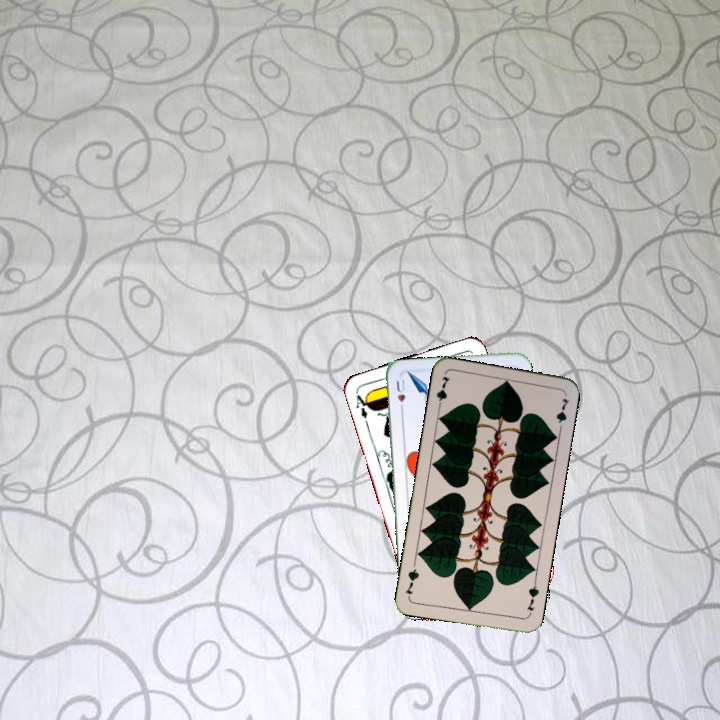EA: (352, 387, 373, 421)
G7: (432, 372, 452, 412), (522, 578, 542, 613)
HU: (392, 376, 408, 415)
